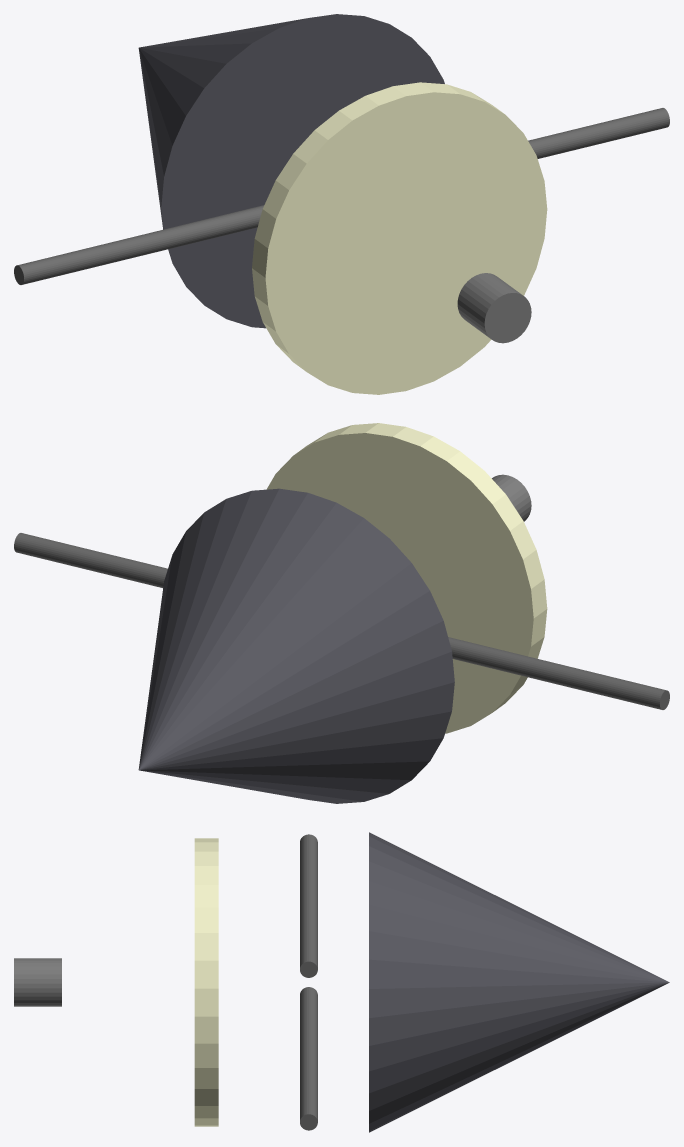
The model's file is spotlight.glb.
The picture shows the model from 3 angles, top to bottom: view 1: azimuth 30°, elevation 25°; view 2: azimuth 150°, elevation 25°; view 3: azimuth 270°, elevation 25°; orthographic projection. The views are drawn at different scales.
Parts seen in each view (by area): view 1: world; view 2: world; view 3: world.
Boxes of the visible parts, x1=… form: world: x1=14, y1=14, x2=669, y2=394; world: x1=14, y1=423, x2=669, y2=803; world: x1=14, y1=832, x2=669, y2=1132.
Size of the model in its own units: 1.1 by 0.5 by 1.09.
